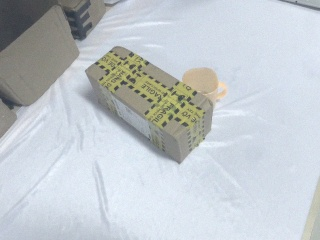box: (86, 46, 213, 162)
cup: (182, 67, 228, 110)
